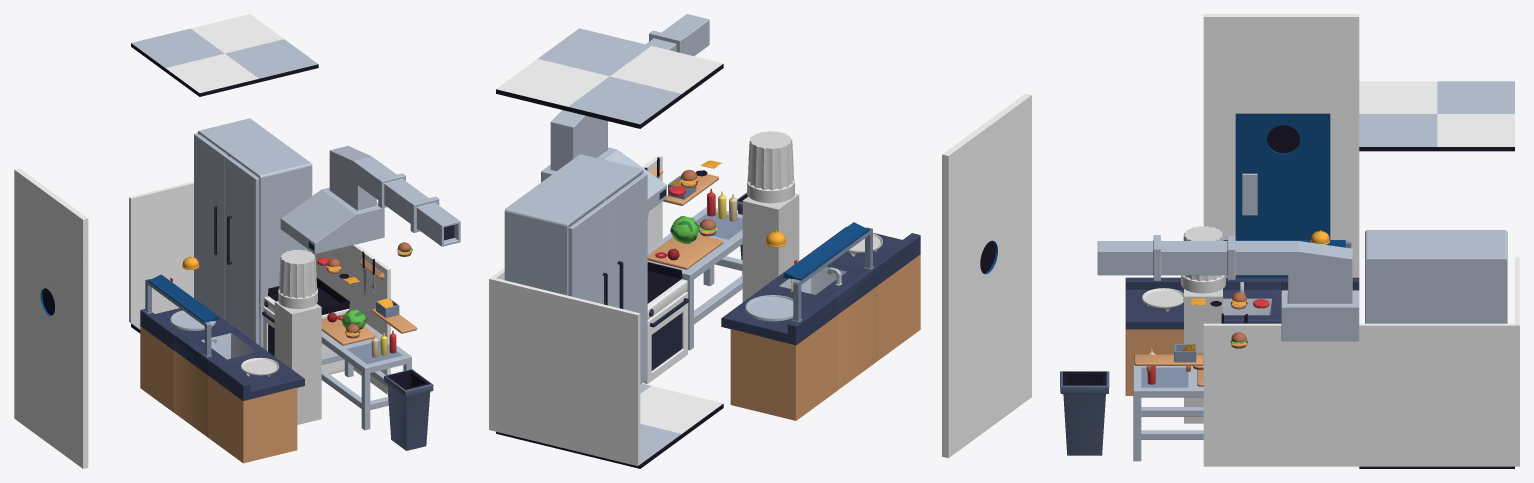
The model's file is env.glb.
3 renders of one model, left to right at view 1: azimuth 30°, elevation 25°; view 2: azimuth 150°, elevation 25°; view 3: azimuth 270°, elevation 25°, orthographic. The views are drawn at different scales.
Visible parts, largest first — view 1: WallDoor2u, OvenVent, Ceiling2u, Cabinet, Fridge, Corner2u, Door2u, FridgeDoorR, FridgeDoorL, CabinetSink, Ref, PrepTable (+11 smaller); view 2: Corner2u, WallDoor2u, Ceiling2u, Cabinet.001, Door2u, Fridge, CabinetSink, OvenVent, FridgeDoorR, Cabinet, Ref, Floor2u (+11 smaller); view 3: WallDoor2u, Corner2u, Wall2u, OvenVent, Fridge, Door2u, Ceiling2u, Cabinet, PrepTable, TrashCan, CabinetSink, Ref (+3 smaller).
Boxes of the visible parts, <box> form: WallDoor2u: <box>14,168,88,468</box>; OvenVent: <box>280,146,460,254</box>; Ceiling2u: <box>131,14,318,96</box>; Cabinet: <box>209,353,304,463</box>; Fridge: <box>197,118,312,347</box>; Corner2u: <box>129,181,318,322</box>; Door2u: <box>27,264,68,458</box>; FridgeDoorR: <box>225,156,258,344</box>; FridgeDoorL: <box>194,133,227,319</box>; CabinetSink: <box>174,328,269,437</box>; Ref: <box>274,301,321,424</box>; PrepTable: <box>321,312,411,430</box>; Corner2u: <box>489,268,640,466</box>; WallDoor2u: <box>942,93,1031,458</box>; Ceiling2u: <box>496,28,723,128</box>; Cabinet.001: <box>721,287,837,420</box>; Door2u: <box>964,211,1014,446</box>; Fridge: <box>504,154,643,295</box>; CabinetSink: <box>763,257,878,389</box>; OvenVent: <box>541,14,709,211</box>; FridgeDoorR: <box>606,173,647,384</box>; Cabinet: <box>805,226,920,359</box>; Ref: <box>742,193,799,302</box>; Floor2u: <box>496,383,723,468</box>; WallDoor2u: <box>1203,14,1359,277</box>; Corner2u: <box>1359,257,1519,466</box>; Wall2u: <box>1203,323,1359,466</box>; OvenVent: <box>1097,235,1359,341</box>; Fridge: <box>1365,230,1507,323</box>; Door2u: <box>1235,113,1330,277</box>; Ceiling2u: <box>1359,81,1514,151</box>; Cabinet: <box>1125,277,1183,395</box>; PrepTable: <box>1133,365,1203,461</box>; TrashCan: <box>1060,371,1109,455</box>; CabinetSink: <box>1223,277,1281,323</box>; Ref: <box>1184,289,1222,423</box>.
Bounding box in the file's own units: 5.79 × 4.56 × 5.9.
5 materials, 3 textured.
